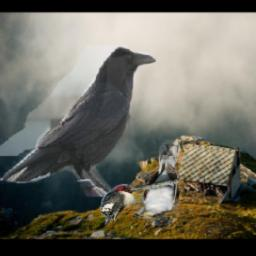Crow: (0, 46, 156, 198)
Cuckoo: (134, 139, 179, 219)
Woodpecker: (100, 184, 141, 225)
